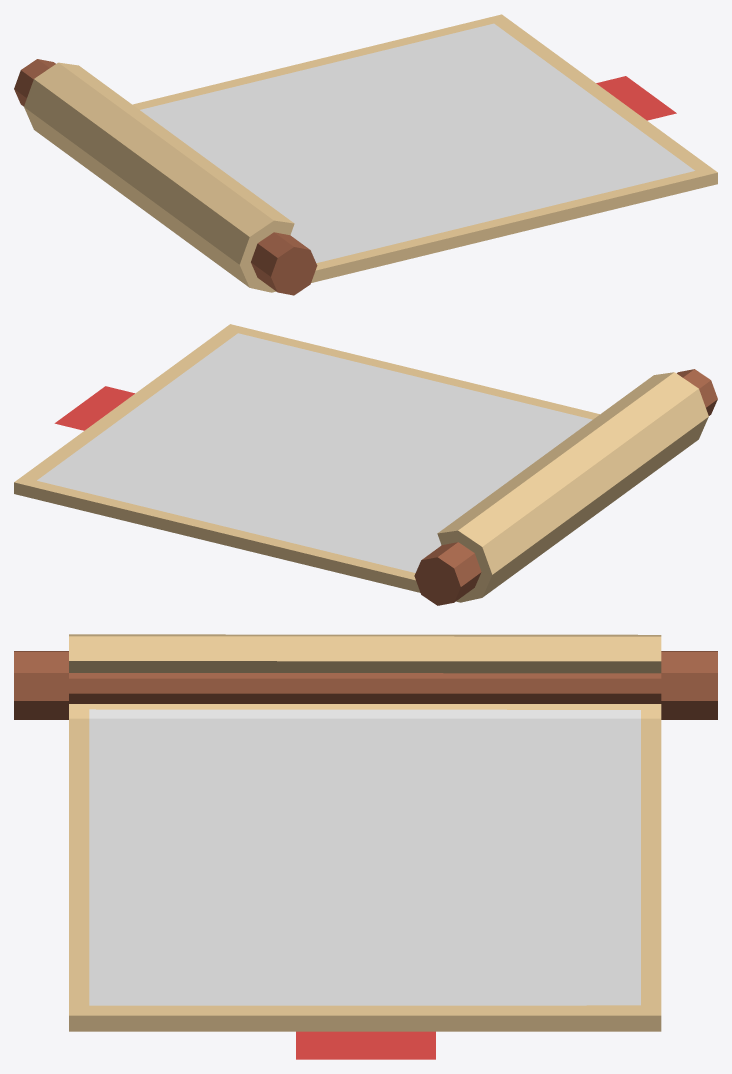
Rendered from Parchemin_O.fbx.
The picture shows the model from 3 angles, top to bottom: view 1: azimuth 30°, elevation 25°; view 2: azimuth 150°, elevation 25°; view 3: azimuth 270°, elevation 25°; orthographic projection. The views are drawn at different scales.
Parts seen in each view (by area): view 1: PARCHEMIN.001; view 2: PARCHEMIN.001; view 3: PARCHEMIN.001.
Part boxes in pixels (x1,y1,x2,y2): PARCHEMIN.001: (14,14,717,295); PARCHEMIN.001: (14,324,717,605); PARCHEMIN.001: (14,634,717,1059).
Size of the model in its own units: 54.59 by 7.21 by 46.69.
